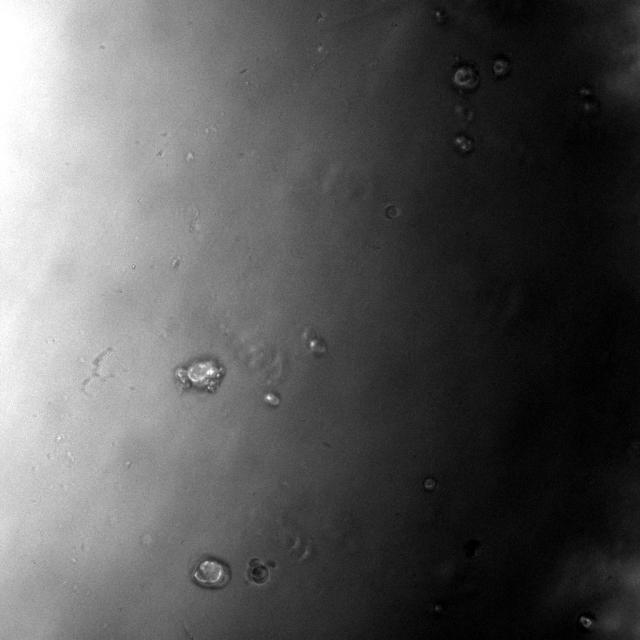organoid: (174, 358, 225, 393), (192, 559, 230, 588), (247, 558, 276, 584), (452, 65, 479, 91), (578, 87, 599, 112), (454, 133, 474, 154), (492, 56, 511, 77), (577, 612, 595, 631), (385, 205, 400, 219), (423, 477, 437, 491)
